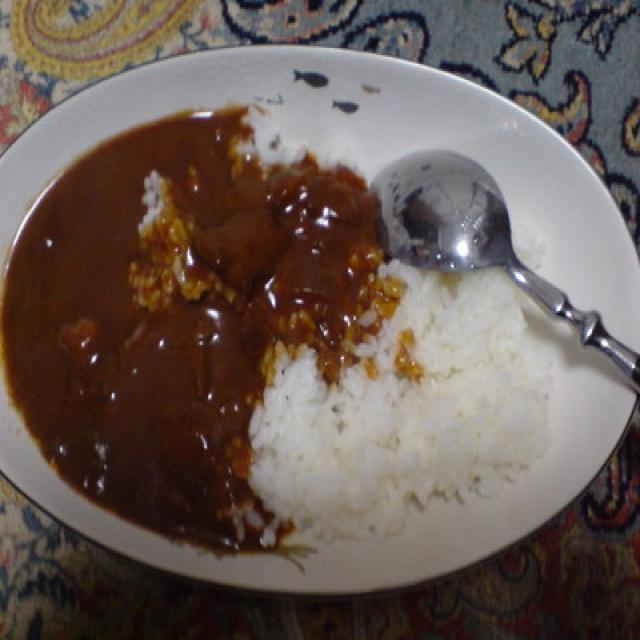Beef Curry: (15, 139, 361, 525)
Rice: (266, 281, 536, 527)
